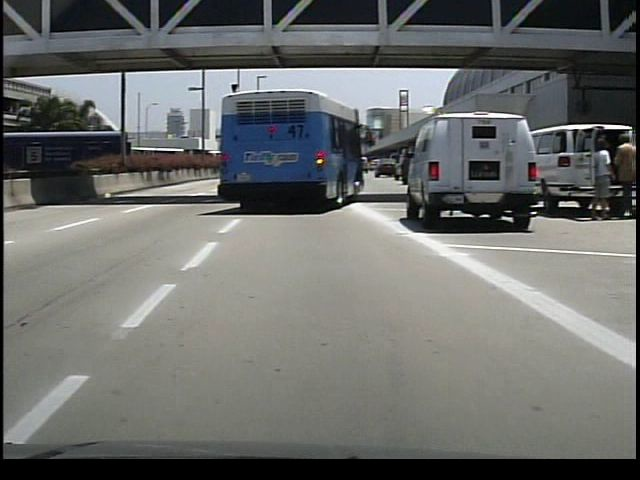person: (604, 130, 636, 220), (584, 134, 608, 220)
